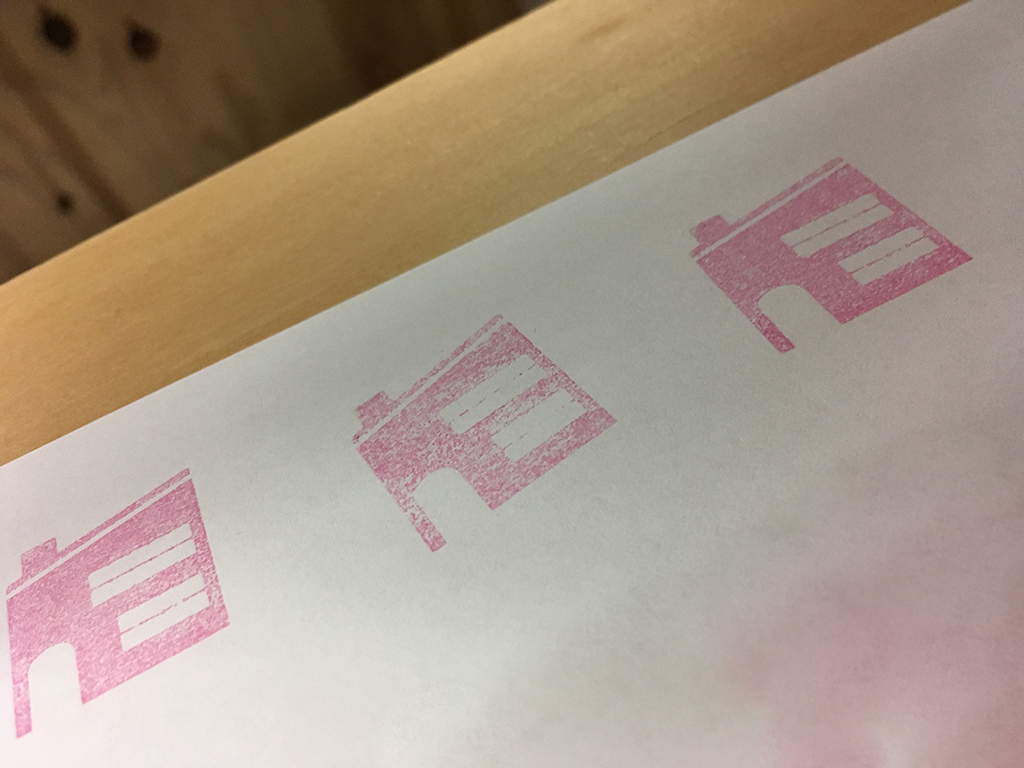house: (333, 304, 628, 566), (678, 146, 985, 369), (1, 463, 240, 744)
